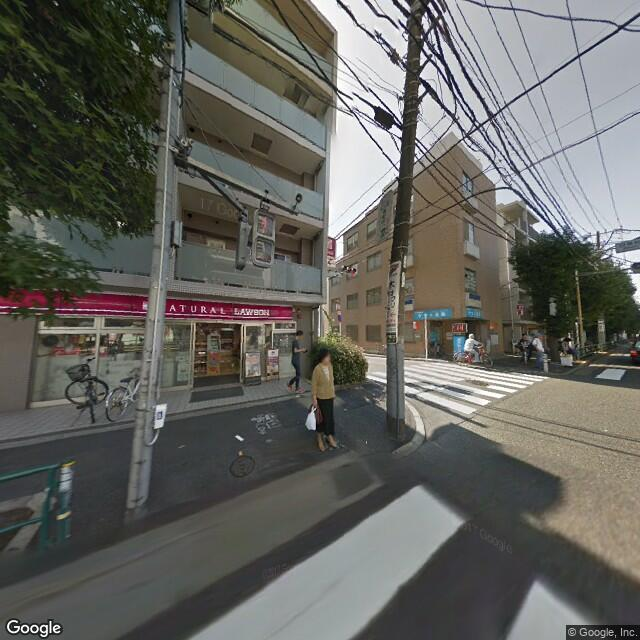lawson: (99, 290, 296, 324)
